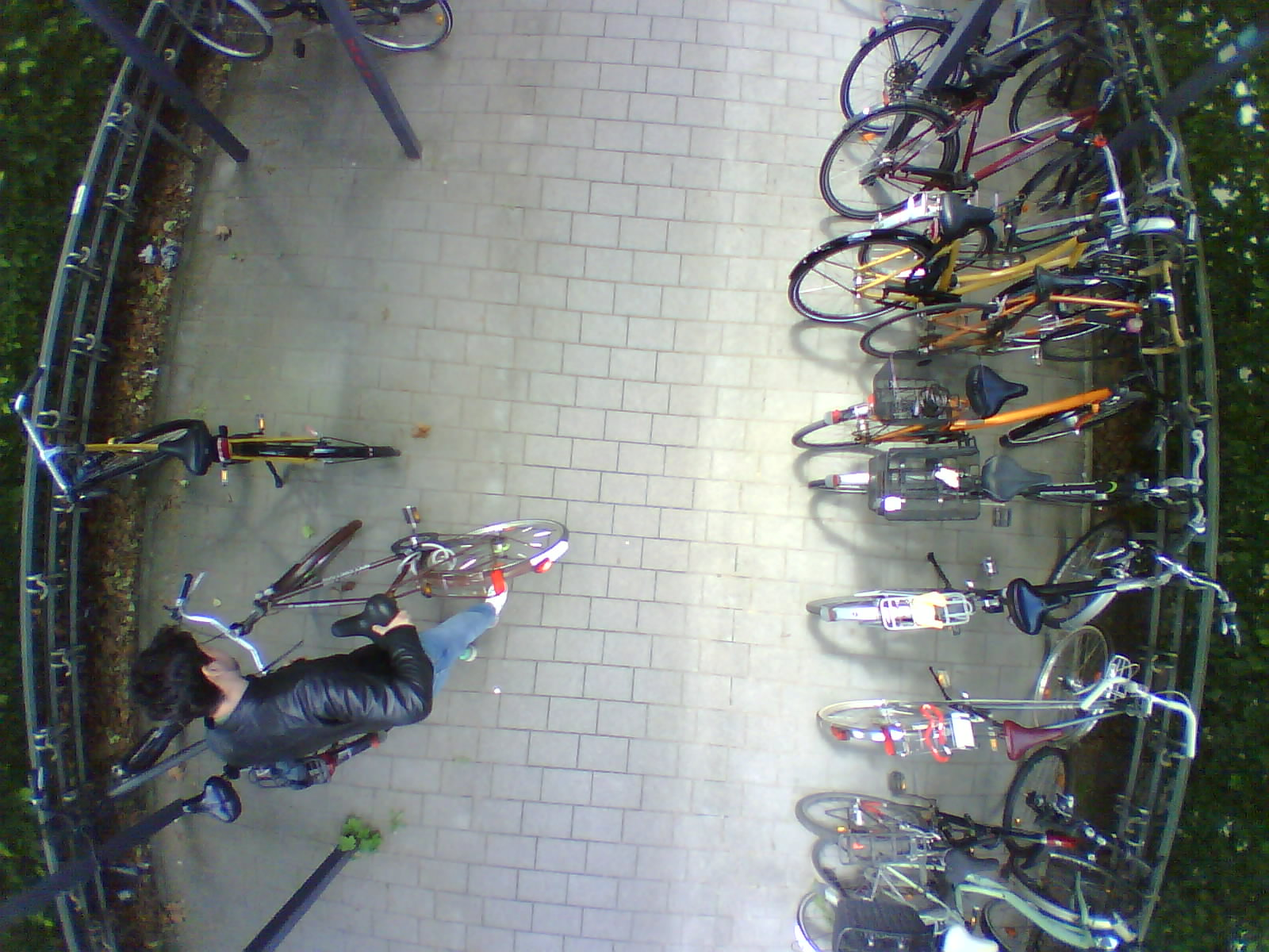bicylce: (810, 630, 1143, 775), (229, 519, 571, 652), (797, 533, 1163, 650), (778, 221, 1165, 329), (811, 114, 1131, 244), (802, 435, 1206, 527), (831, 28, 1097, 147), (806, 862, 1150, 947), (796, 772, 1121, 860), (870, 187, 1180, 278), (792, 373, 1147, 451), (809, 835, 1132, 905), (34, 422, 401, 483), (854, 299, 1173, 367)
saddle: (982, 445, 1052, 504), (329, 595, 392, 652), (1004, 580, 1067, 635), (153, 422, 212, 478), (997, 720, 1063, 763), (179, 780, 238, 828), (966, 367, 1017, 417), (962, 46, 1018, 86), (941, 850, 997, 890), (935, 195, 988, 236), (1034, 262, 1086, 296), (940, 925, 1000, 952)
